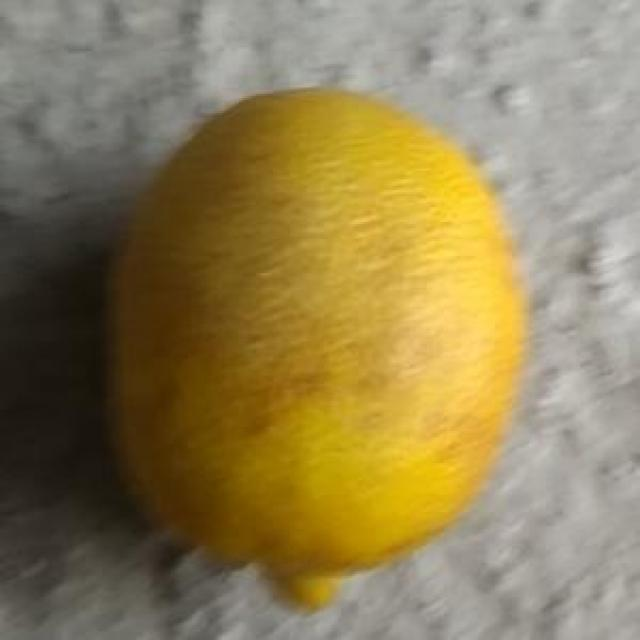lemon: (104, 79, 534, 606)
